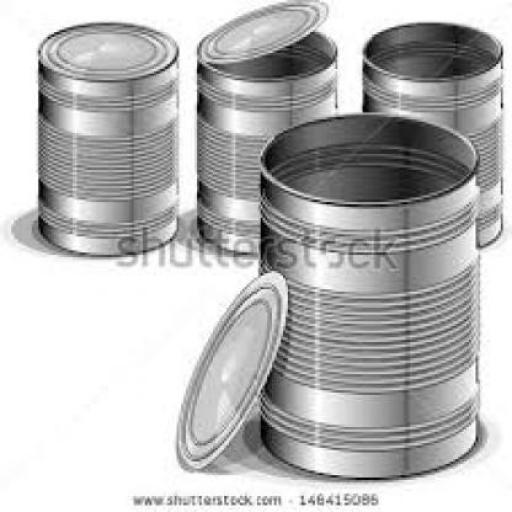metal: (259, 108, 475, 476), (36, 20, 177, 256), (360, 20, 500, 246), (195, 30, 335, 252), (174, 269, 286, 471), (192, 0, 327, 63)
